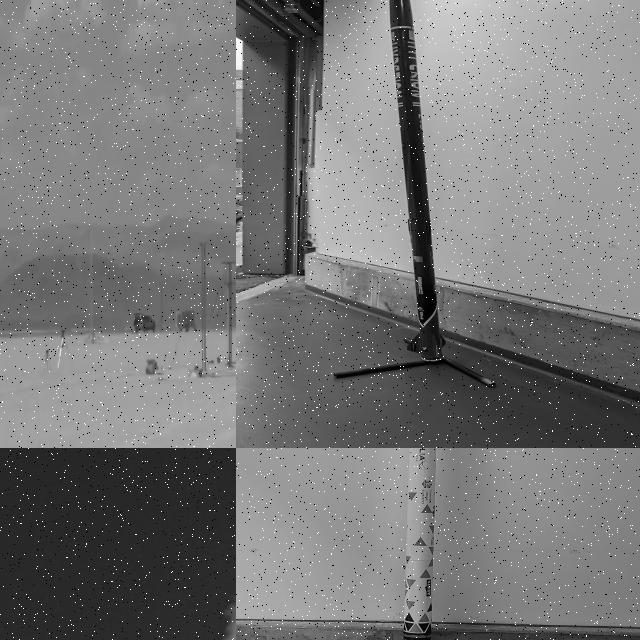Rocket: (389, 0, 446, 362), (403, 448, 436, 640)
